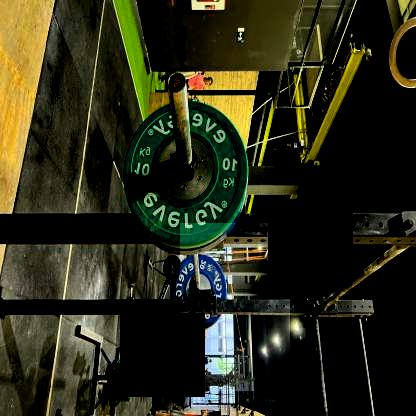barbell: (178, 224, 288, 392), (293, 251, 351, 328)
